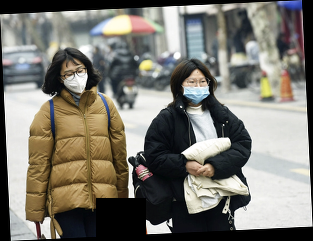with_mask: (182, 76, 211, 107), (60, 65, 89, 94)
